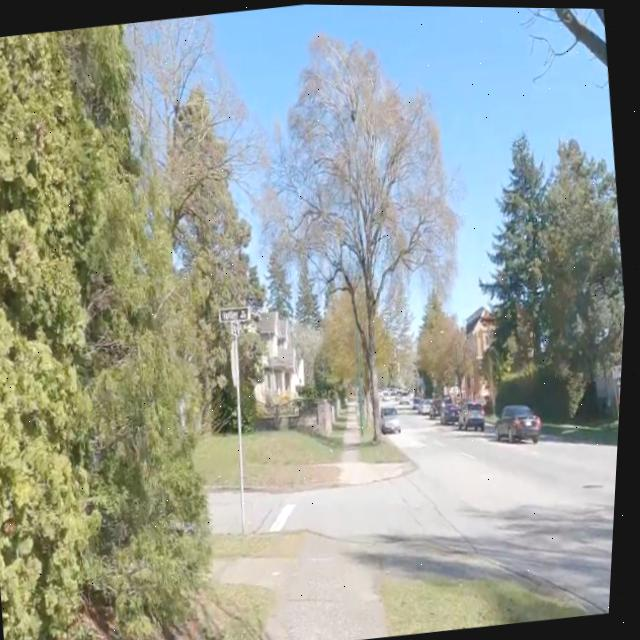Automobile: (500, 403, 543, 439), (462, 400, 488, 429), (384, 405, 403, 431), (444, 396, 462, 422), (422, 397, 434, 413)
Road: (258, 412, 622, 611)
Sidewalk: (222, 530, 394, 640), (340, 461, 414, 484), (349, 398, 365, 448), (345, 451, 366, 459), (346, 468, 356, 479)
